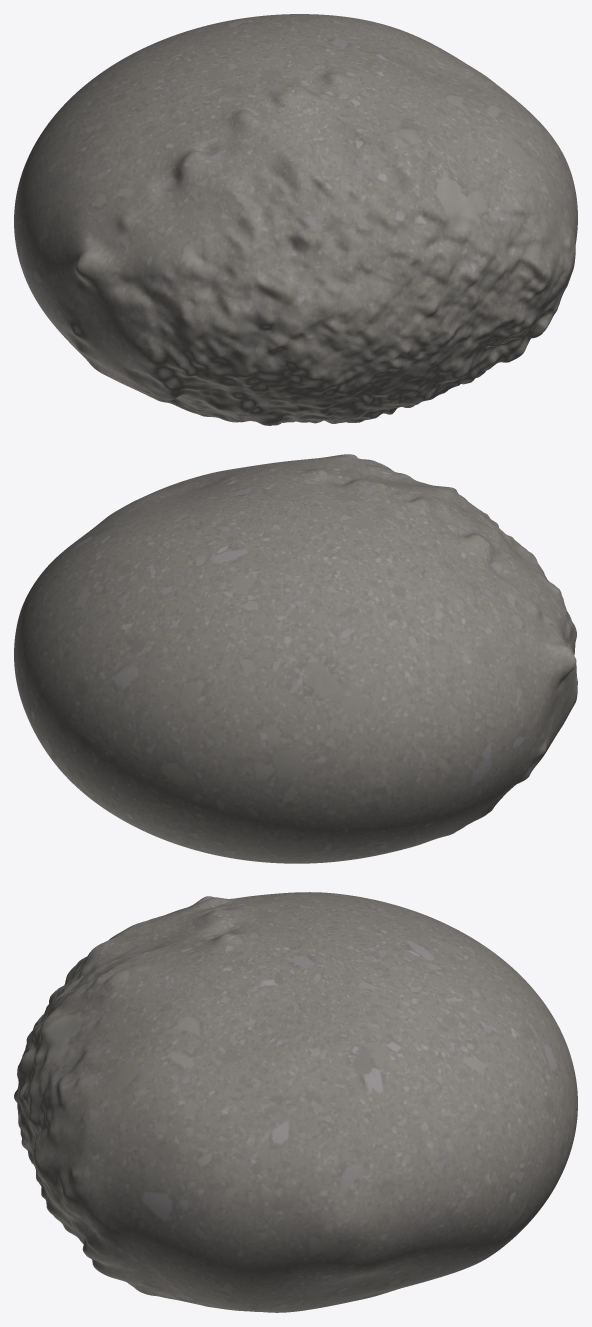
Rendered from dimorphos.glb.
3 renders of one model, top to bottom at view 1: azimuth 30°, elevation 25°; view 2: azimuth 150°, elevation 25°; view 3: azimuth 270°, elevation 25°, orthographic. The views are drawn at different scales.
Parts seen in each view (by area): view 1: dimorphos; view 2: dimorphos; view 3: dimorphos.
Part boxes in pixels (box(x1,y1,x2,y2)): dimorphos: box(14, 14, 577, 425); dimorphos: box(14, 454, 577, 863); dimorphos: box(14, 892, 577, 1312).
Size of the model in its own units: 0.1784 by 0.1146 by 0.1693.
Materials: 1 (1 with a texture image).
